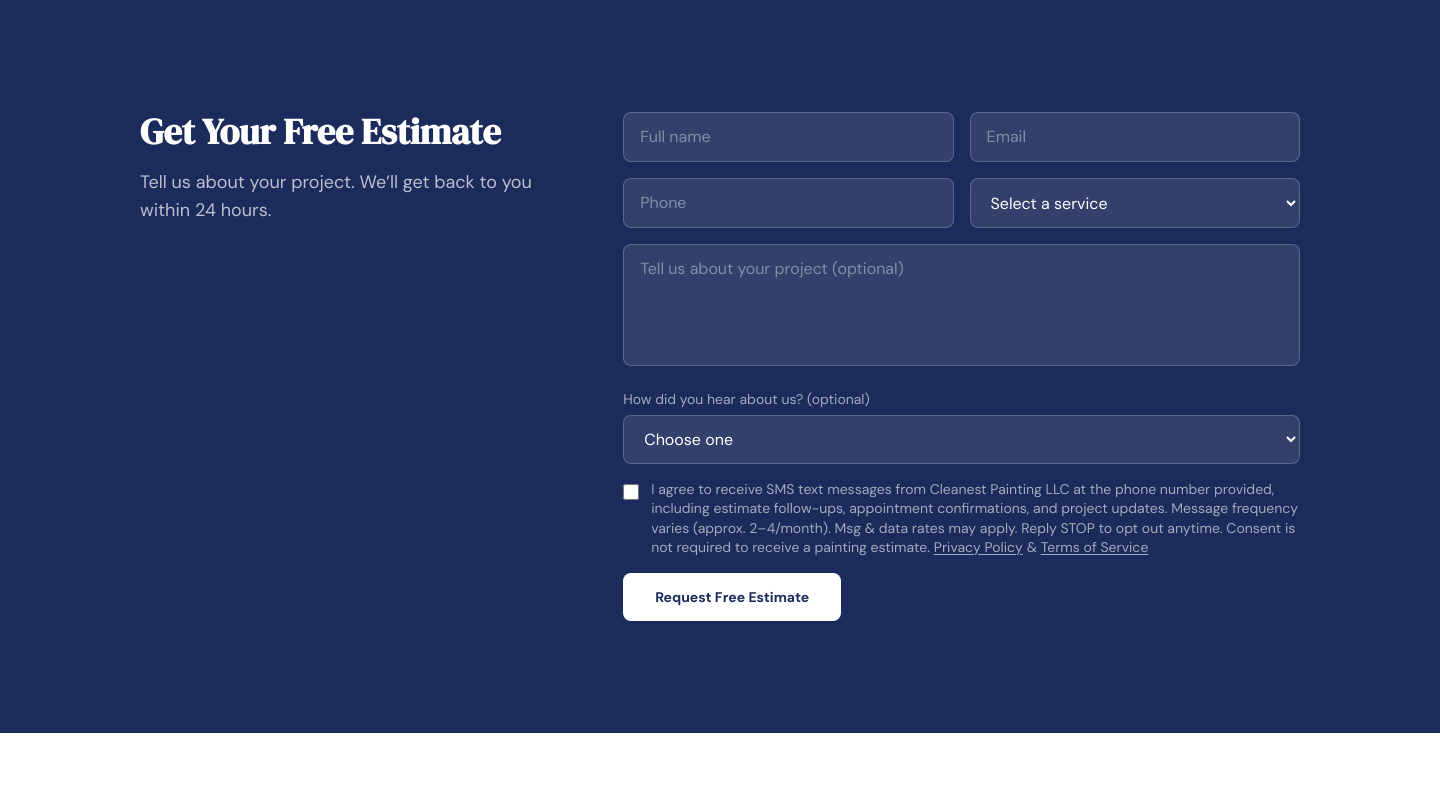
Test case: EstimateForm › does not track a lead when the server rejects the submission
Type "Jane Doe" into the field with placeholder "Full name".
click(788, 137); type("Jane Doe")  # box [623, 112, 954, 162]
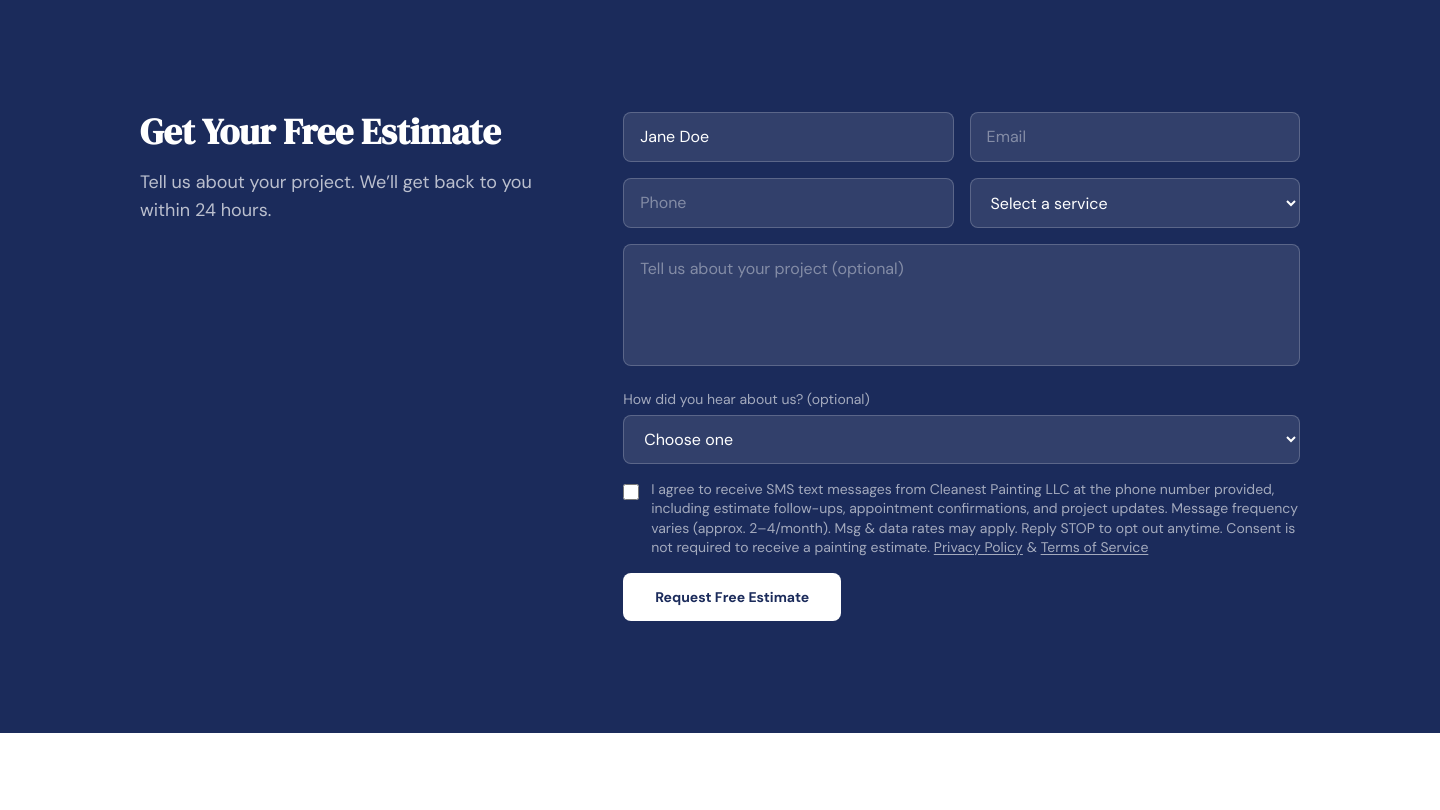
Type "jane@example.com" into the field with placeholder "Email".
click(1135, 137); type("jane@example.com")  # box [970, 112, 1300, 162]
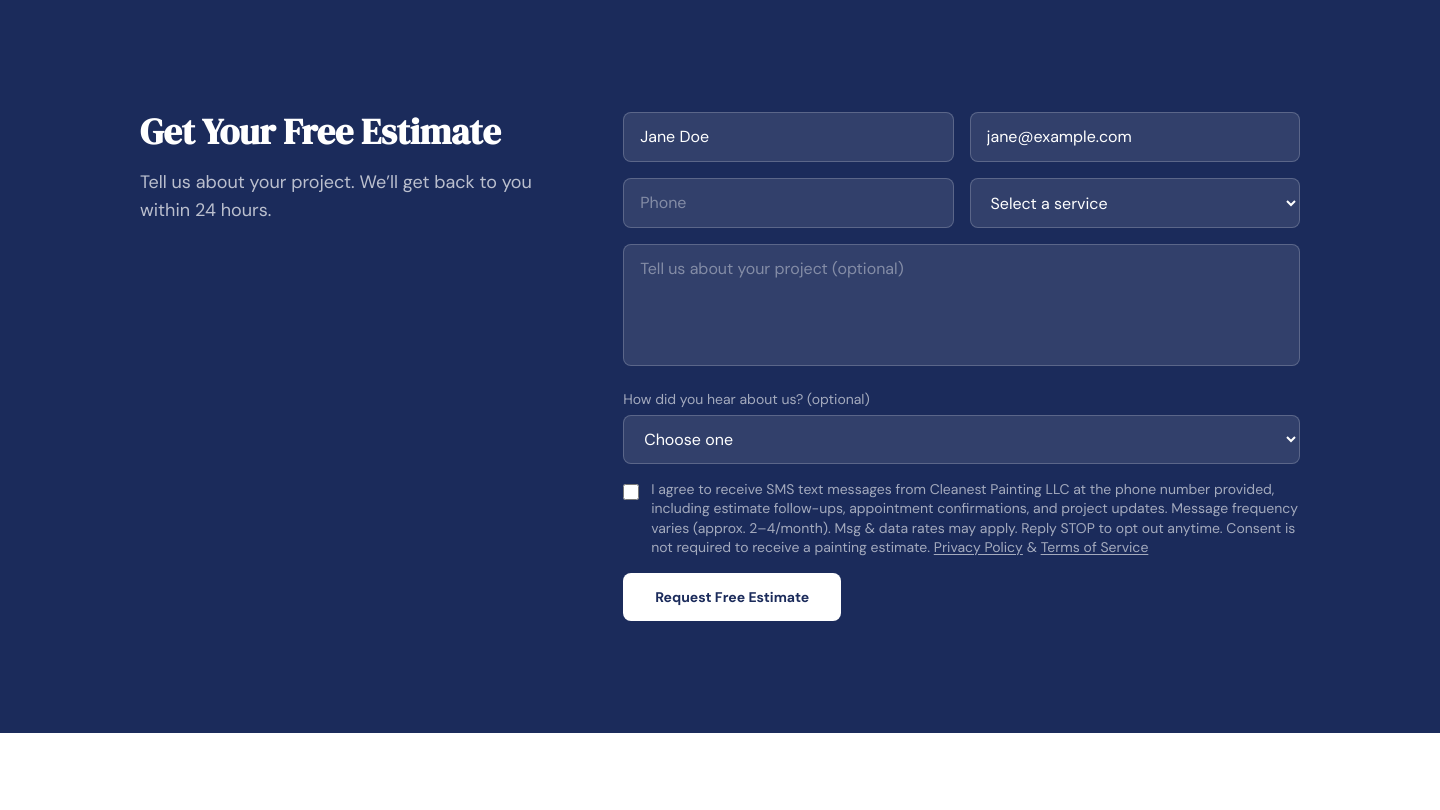
Type "201-555-1234" into the field with placeholder "Phone".
click(788, 203); type("201-555-1234")  # box [623, 178, 954, 228]
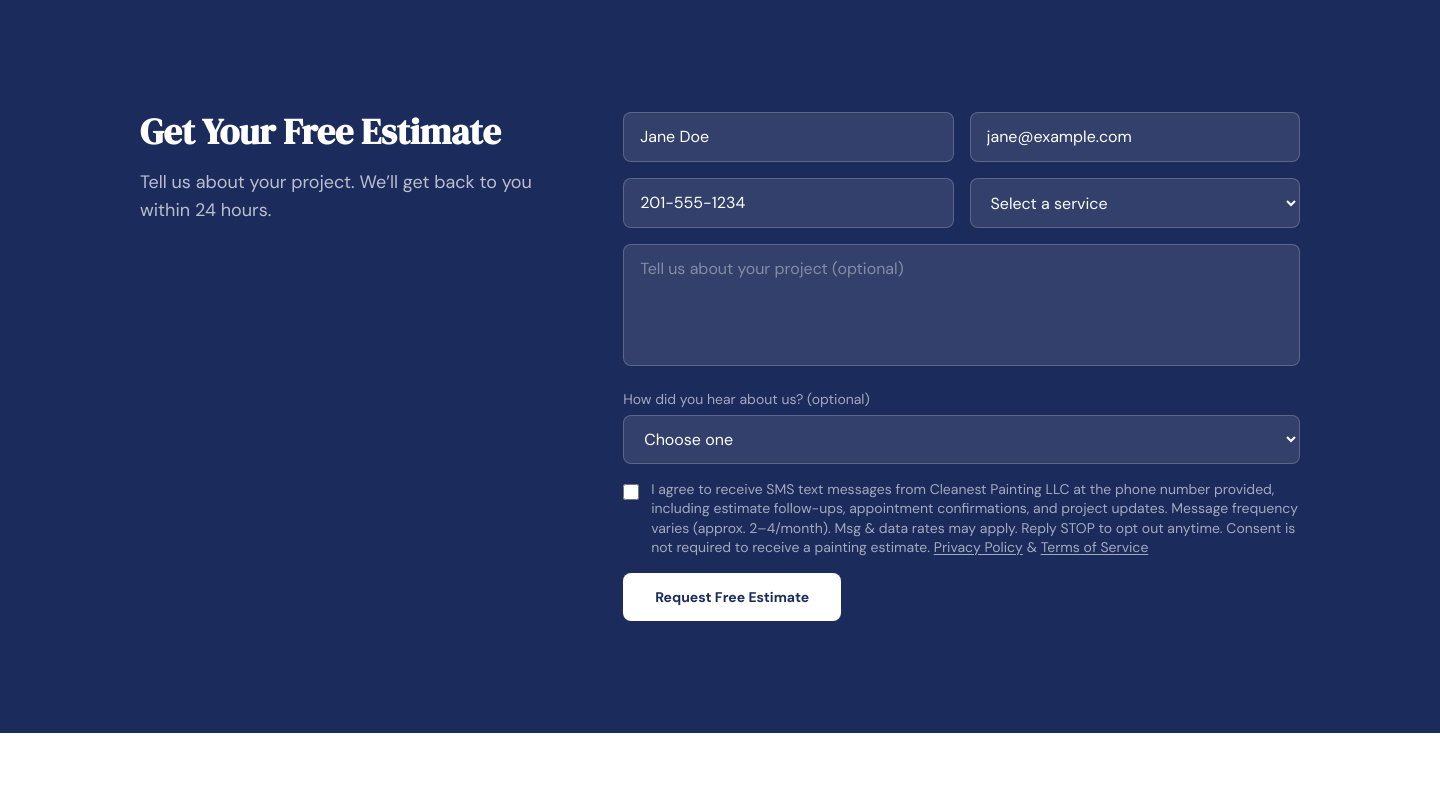
Submit the form from the button "Request Free Estimate", box [623, 573, 841, 621]
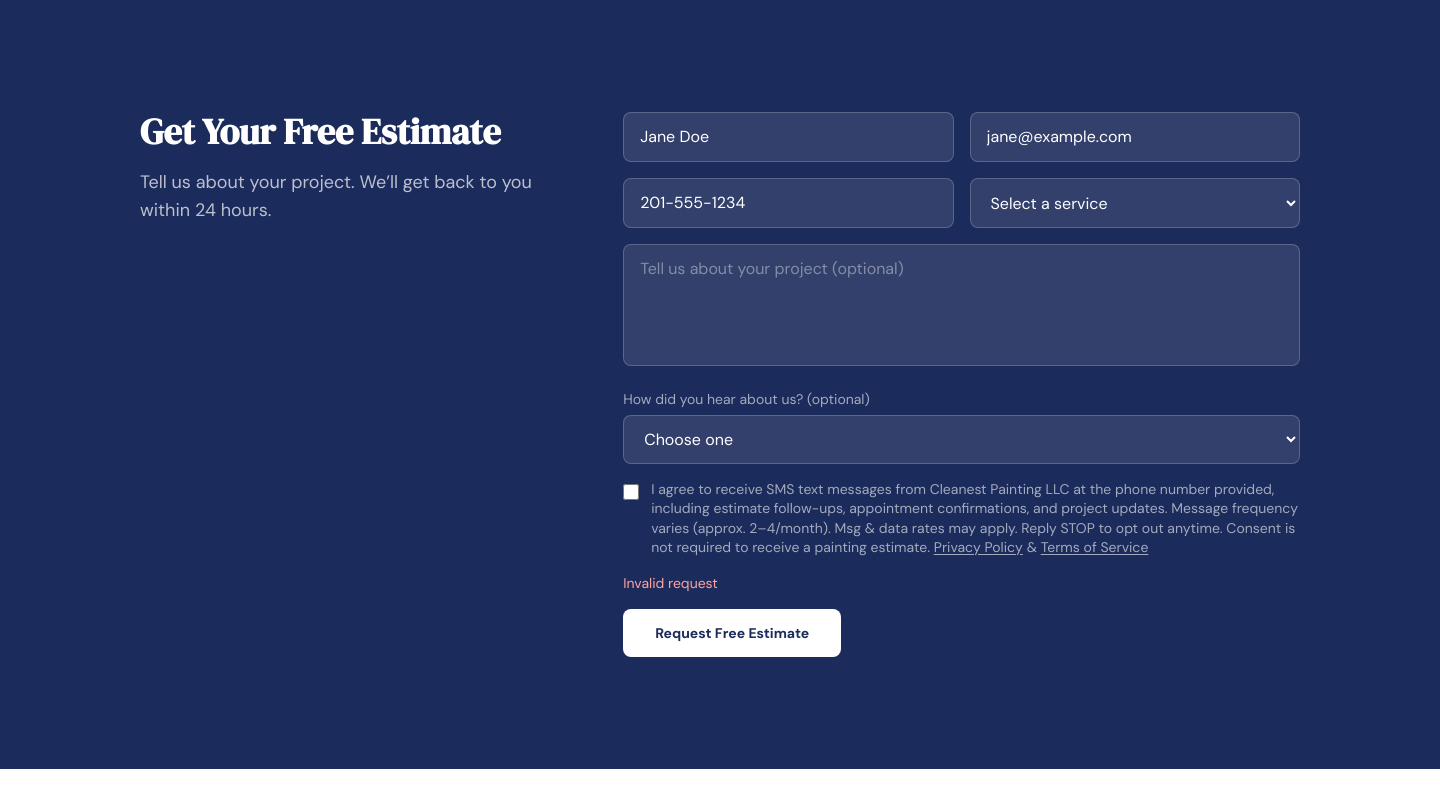
Expected: the message reads "Invalid request", [623, 574, 718, 592]
